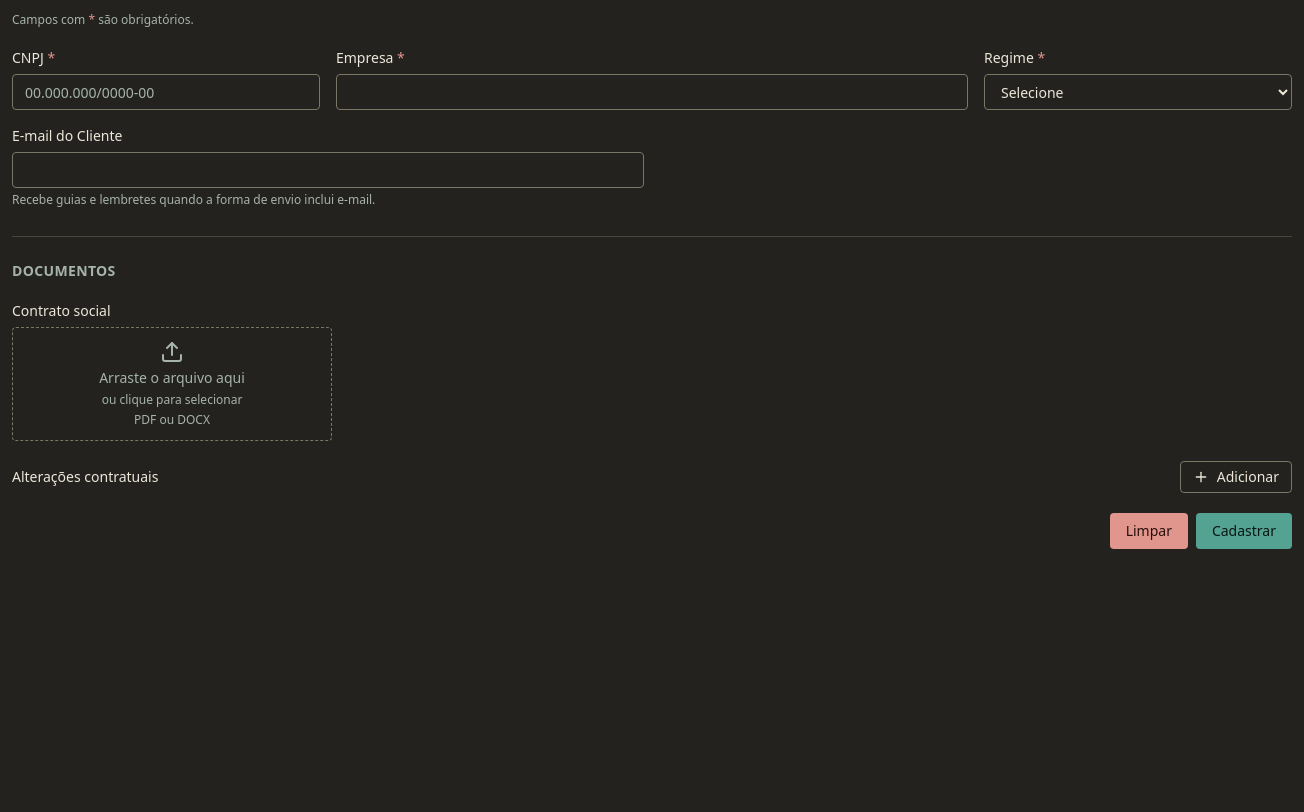
CriarClienteContainer › avisa e libera Regime pra seleção manual quando o CNPJ é encontrado mas o regime não é confirmado
The width and height of the screenshot is (1304, 812).
Type "11.444.777/0001-61" into the field labelled "CNPJ *" at [166, 92], box 12,74 -> 320,110
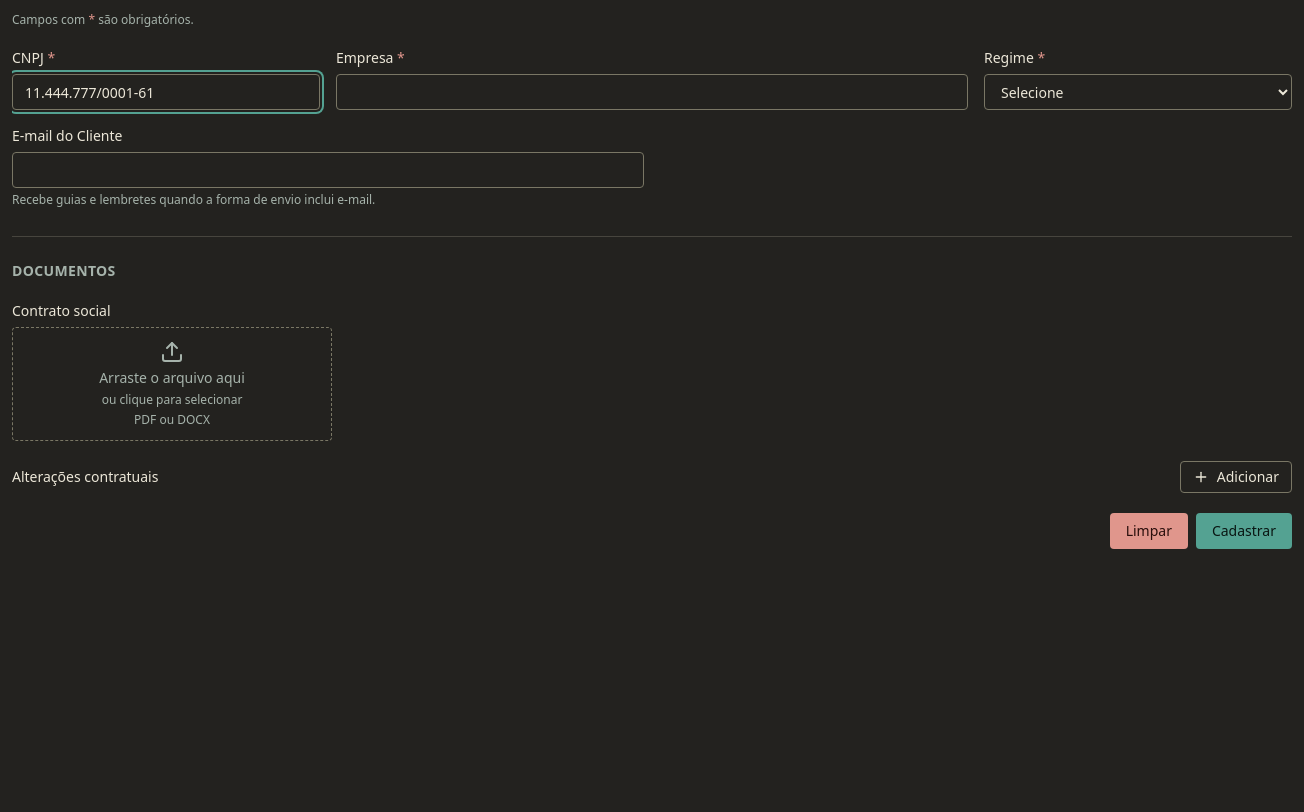
Press Tab
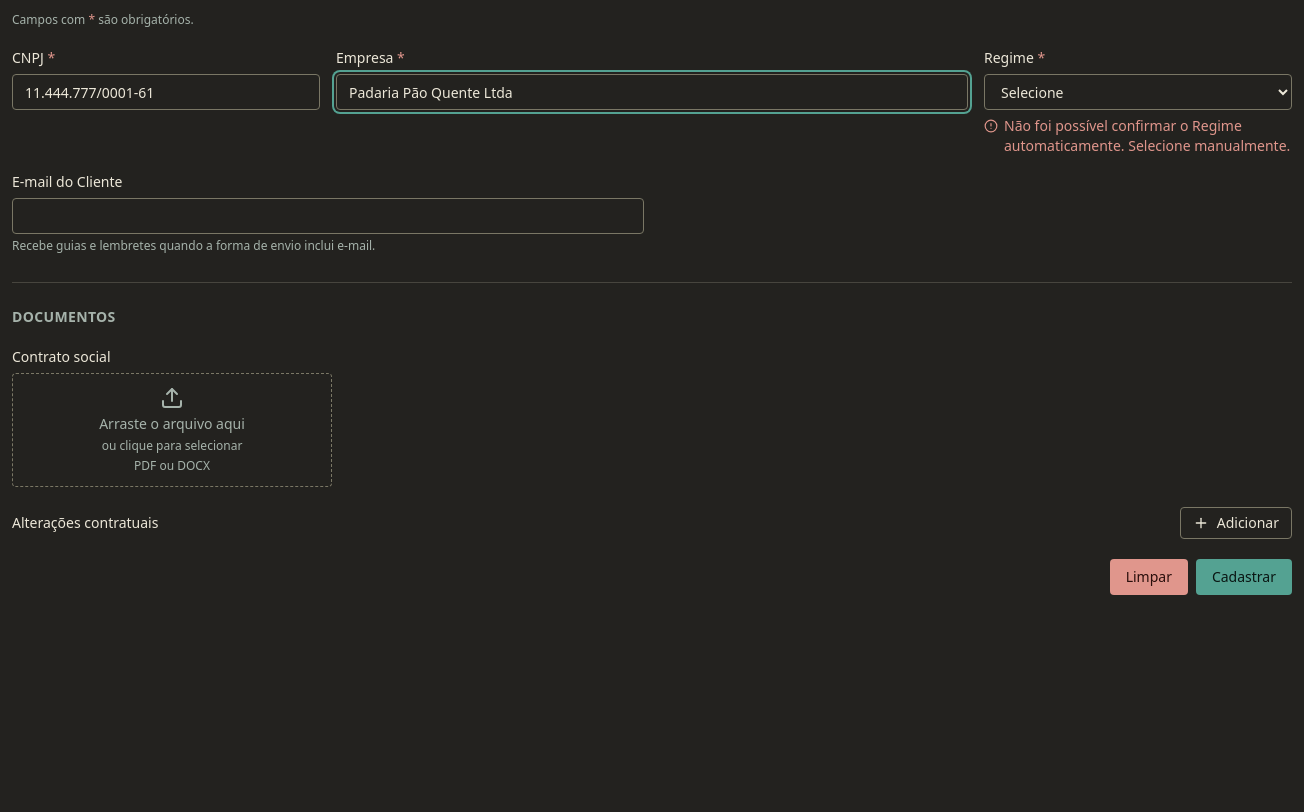
Check: the dropdown labelled "Regime *" is enabled, box 984,74 -> 1292,110
Check: the field labelled "Empresa *" holds "Padaria Pão Quente Ltda", box 336,74 -> 968,110
Check: the text "Não foi possível confirmar o Regime automaticamente. Selecione manualmente." is shown, box 984,116 -> 1292,156
